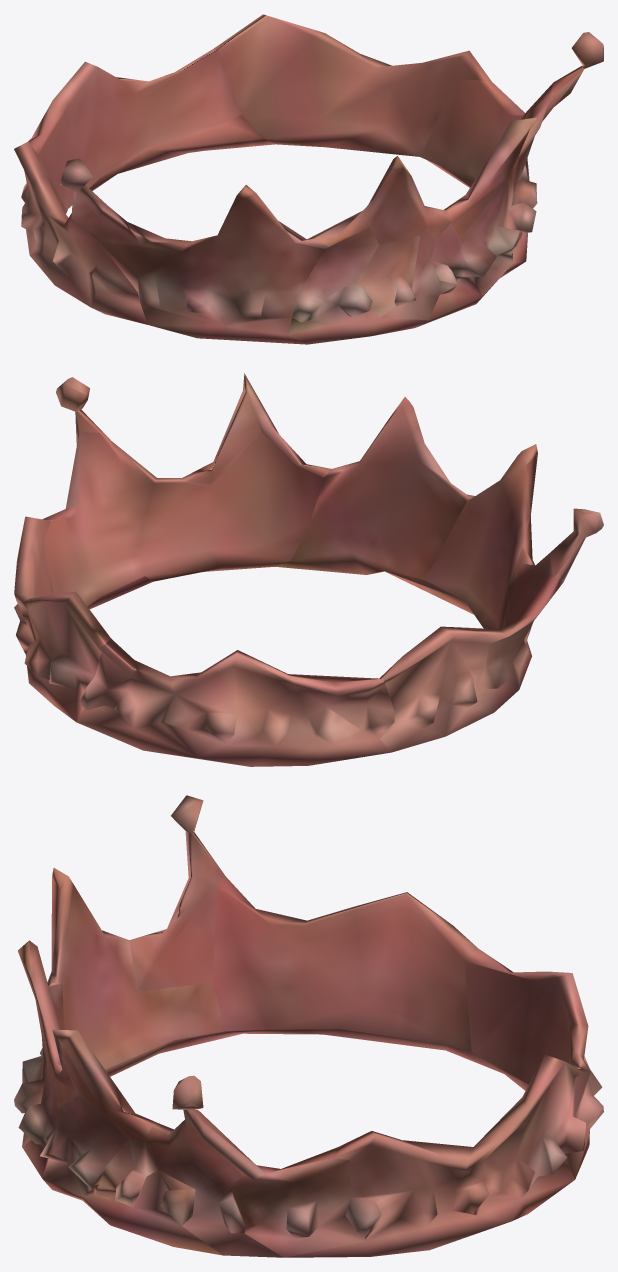
3 views of the same model, one above another, from view 1: azimuth 30°, elevation 25°; view 2: azimuth 150°, elevation 25°; view 3: azimuth 270°, elevation 25° (orthographic). The views are drawn at different scales.
Parts seen in each view (by area): view 1: Pink-Crown-02; view 2: Pink-Crown-02; view 3: Pink-Crown-02.
Part boxes in pixels (<box>): Pink-Crown-02: <box>14,14,603,344</box>; Pink-Crown-02: <box>14,373,603,766</box>; Pink-Crown-02: <box>14,795,603,1257</box>.
Size of the model in its own units: 0.2757 by 0.0906 by 0.2292.
Materials: 1 (1 with a texture image).
